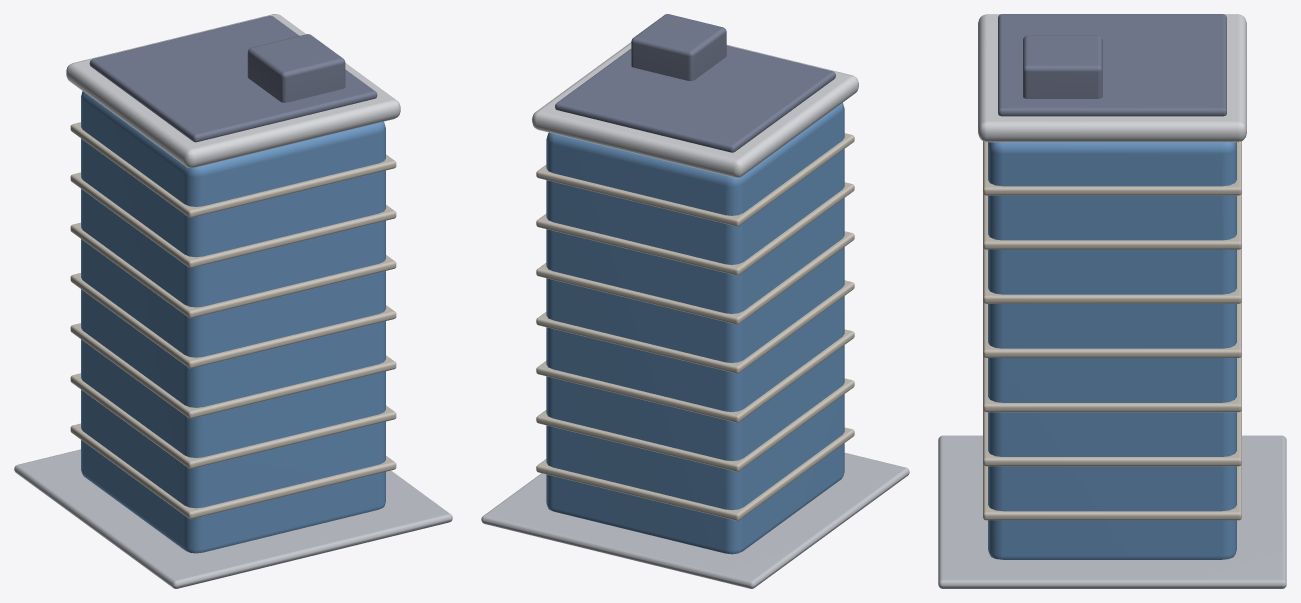
The picture shows the model from 3 angles, left to right: view 1: azimuth 30°, elevation 25°; view 2: azimuth 150°, elevation 25°; view 3: azimuth 270°, elevation 25°; orthographic projection. The views are drawn at different scales.
Parts seen in each view (by area): view 1: Cube; view 2: Cube; view 3: Cube.
Boxes of the visible parts, box(x1,y1,x2,y2) form: Cube: box(14, 14, 452, 588); Cube: box(481, 14, 909, 588); Cube: box(938, 14, 1286, 588).
Bounding box in the file's own units: 0.7 × 1.08 × 0.7.
